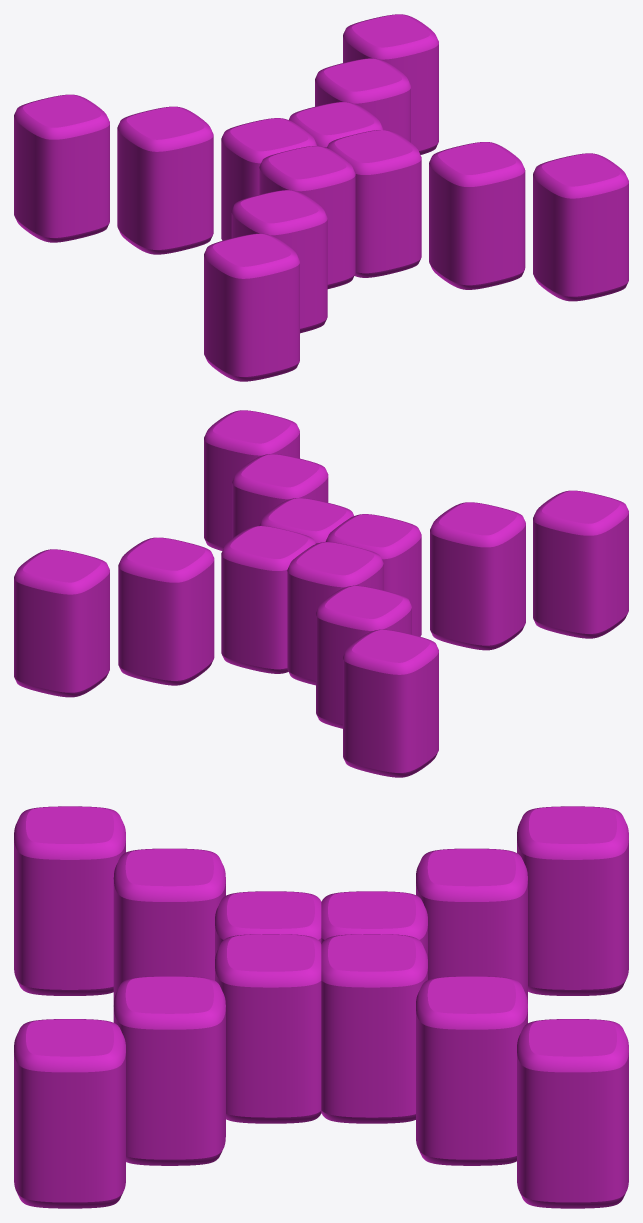
File: Letter_X.fbx
3 renders of one model, top to bottom at view 1: azimuth 30°, elevation 25°; view 2: azimuth 150°, elevation 25°; view 3: azimuth 270°, elevation 25°, orthographic. The views are drawn at different scales.
Parts seen in each view (by area): view 1: Letter_X; view 2: Letter_X; view 3: Letter_X.
Boxes of the visible parts, x1,y1,x2,y2 form: Letter_X: (14,14,628,381); Letter_X: (14,410,628,777); Letter_X: (14,806,628,1208).
Bounding box in the file's own units: 0.5146 × 0.14 × 0.5146.
